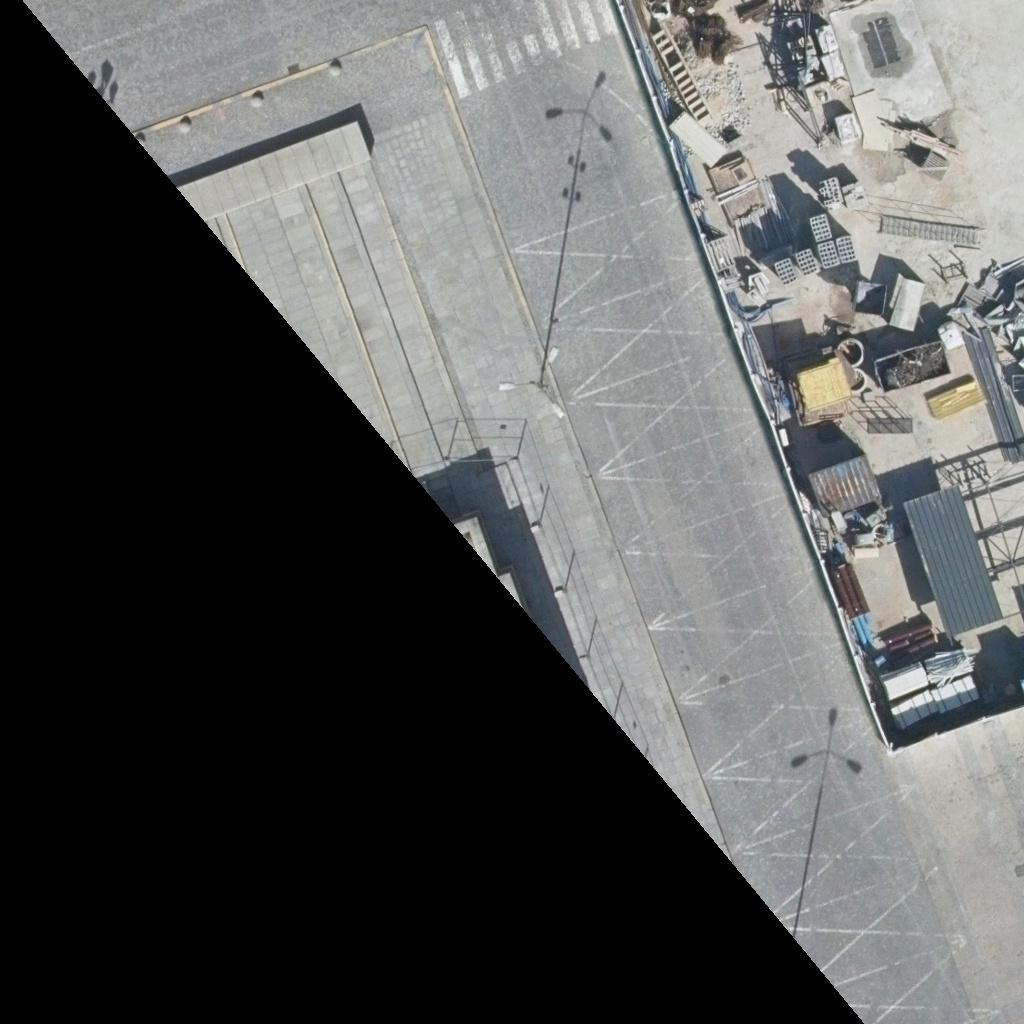kontener: (905, 489, 999, 637), (808, 455, 881, 512)
